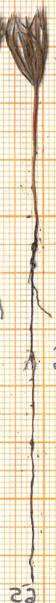flower: (0, 0, 56, 93)
root: (18, 220, 56, 584)
stem: (25, 92, 45, 222)
